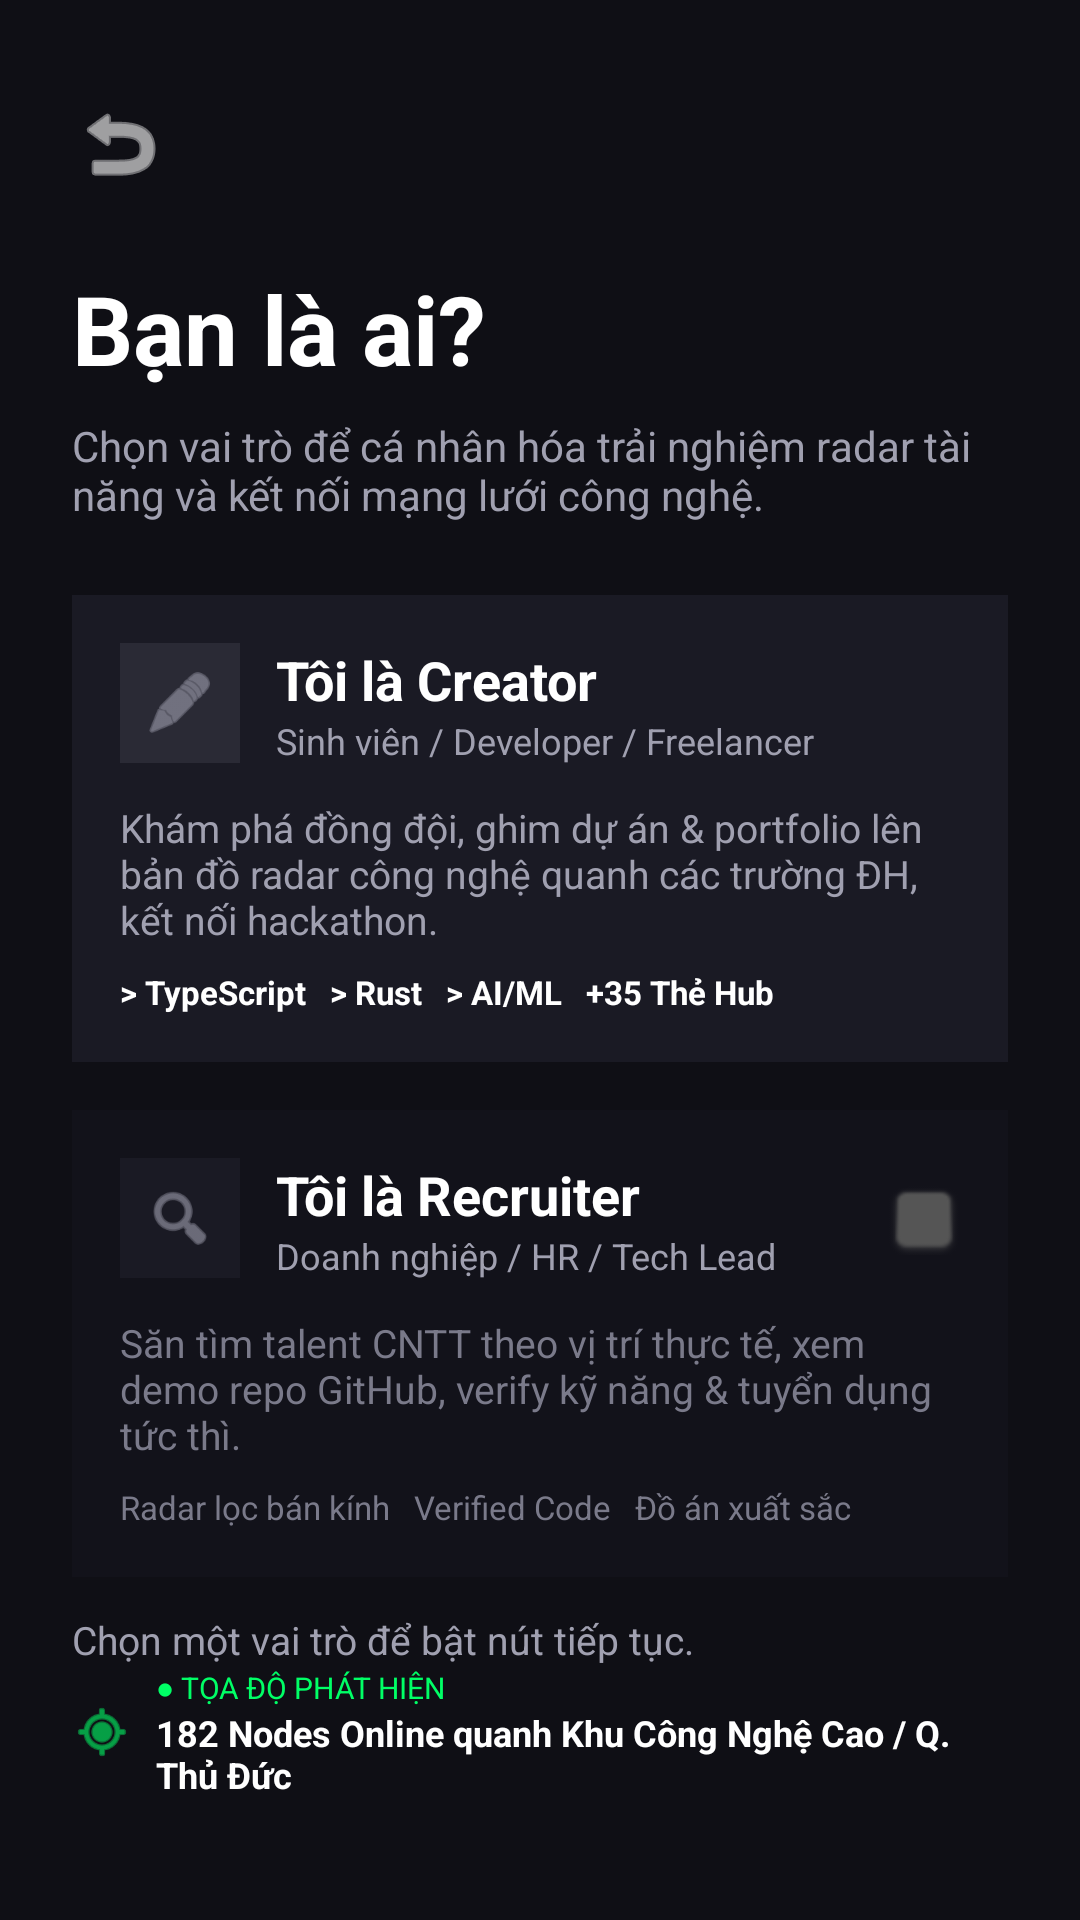

Screen size 1080 × 1920. Icon name, then its box in pixels as (x1, y1, x2, y2):
edit: (120, 643, 240, 763)
mylocation: (78, 1708, 126, 1756)
revert: (87, 113, 156, 176)
search: (120, 1158, 240, 1278)
